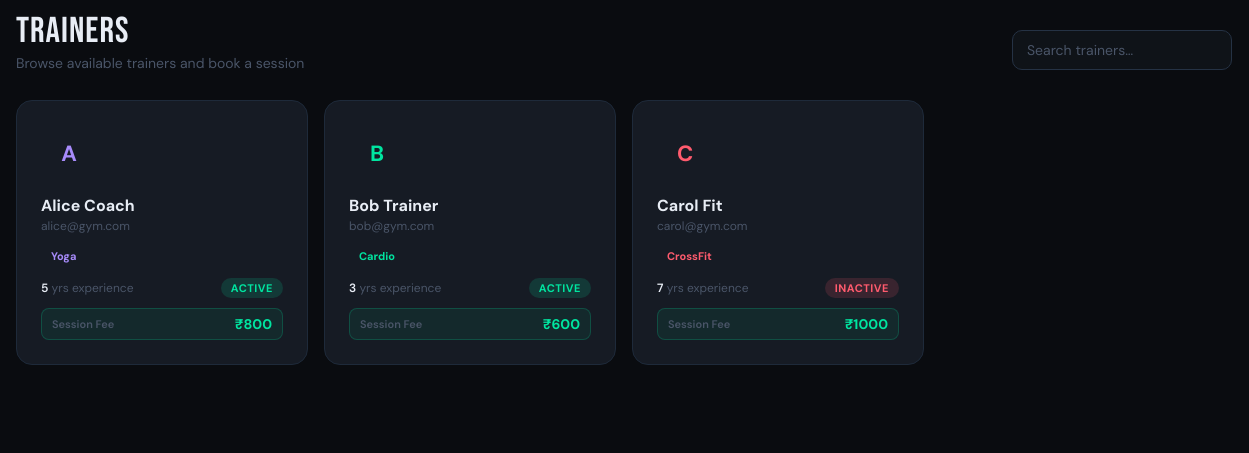
Test: MemberTrainers — slot expansion › shows "Available Slots" section after card click
Click the text "Alice Coach" at (88, 206), box [41,195,135,216]
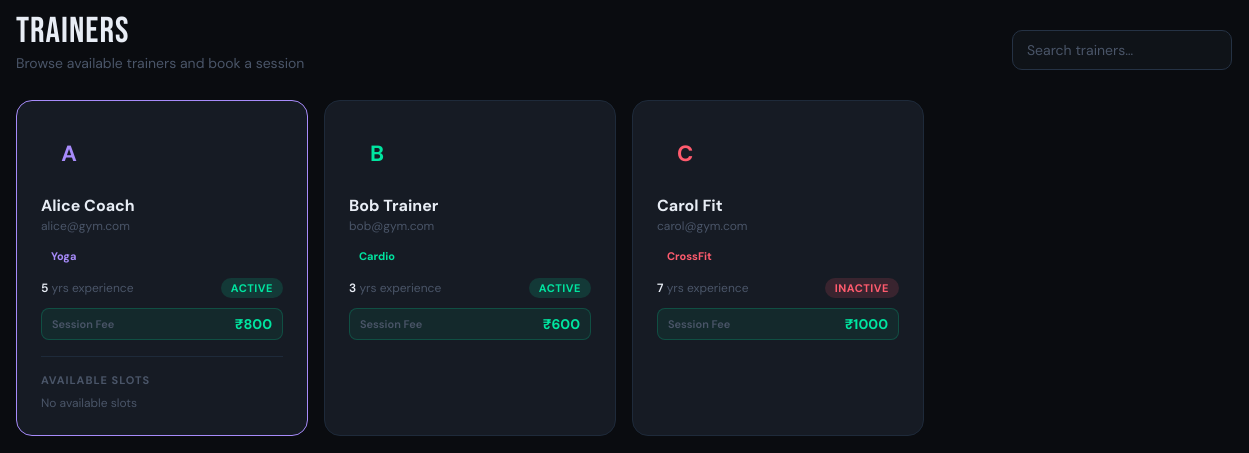
Check: the text "Available Slots" is shown, box [41,373,150,387]
